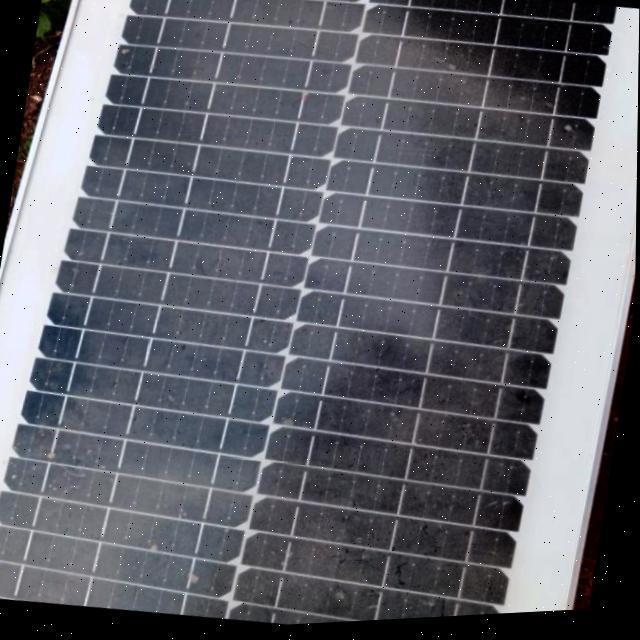Surface Contaminant: (4, 41, 616, 628)
